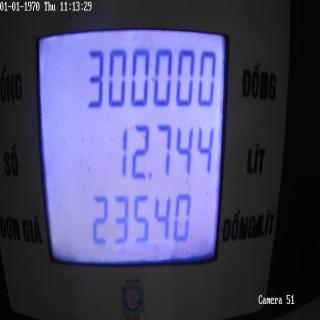screen: (32, 5, 232, 290)
